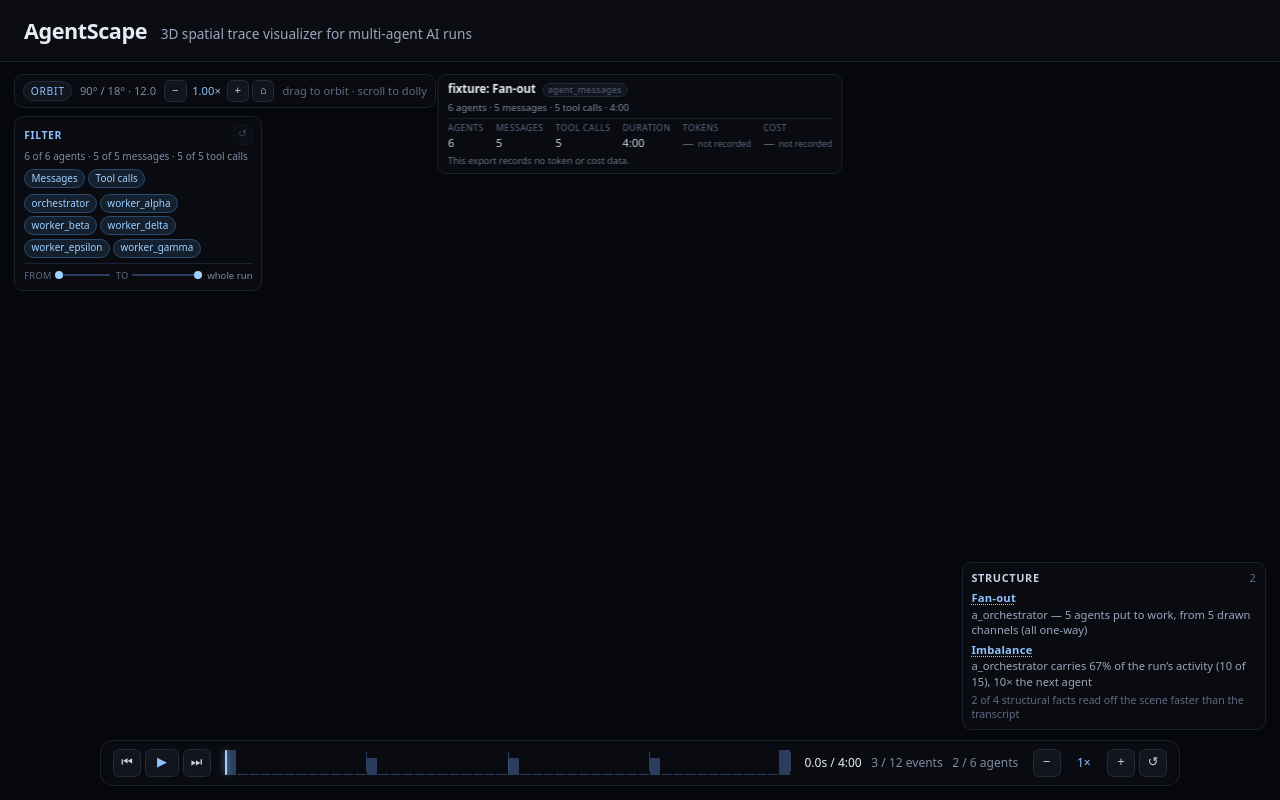
Test case: App shell (M1-T1) › turns a structural fact into a selection, and yields the corner to the inspector (M5-T4)
The width and height of the screenshot is (1280, 800).
Click the button with test id "insight-focus-fan-out".
click(994, 598)  # box [971,590,1016,605]
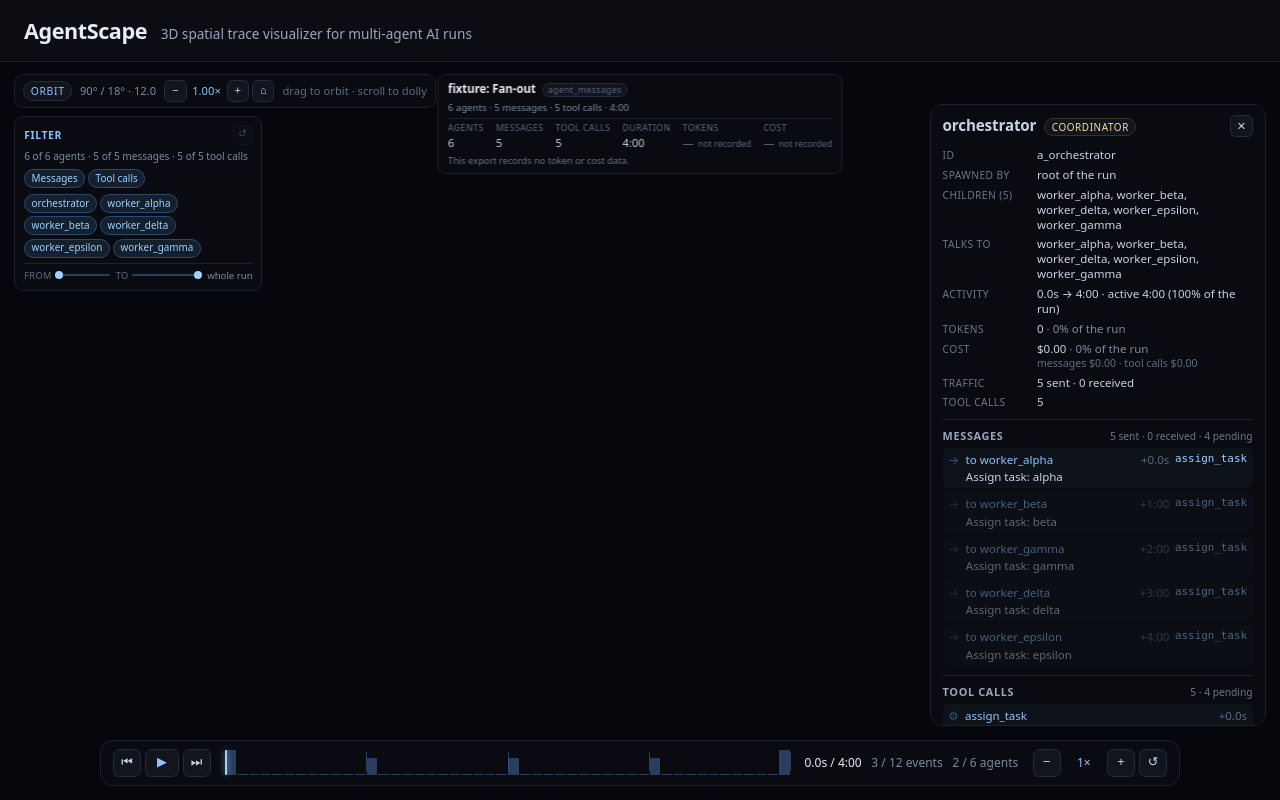
Expected: the element with test id "detail-panel" is shown, [930,104,1266,726]
Expected: the element with test id "insight-rail" is gone
